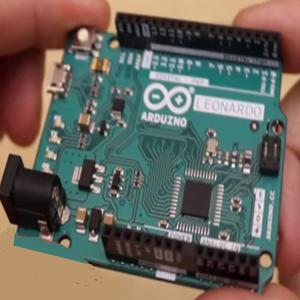duino: (12, 3, 294, 281)
